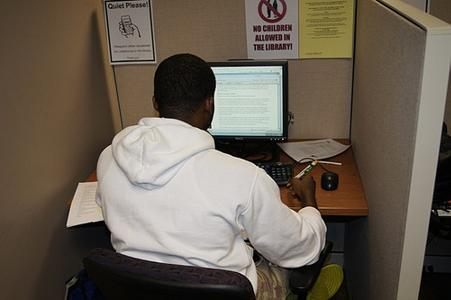person: (95, 53, 330, 298)
